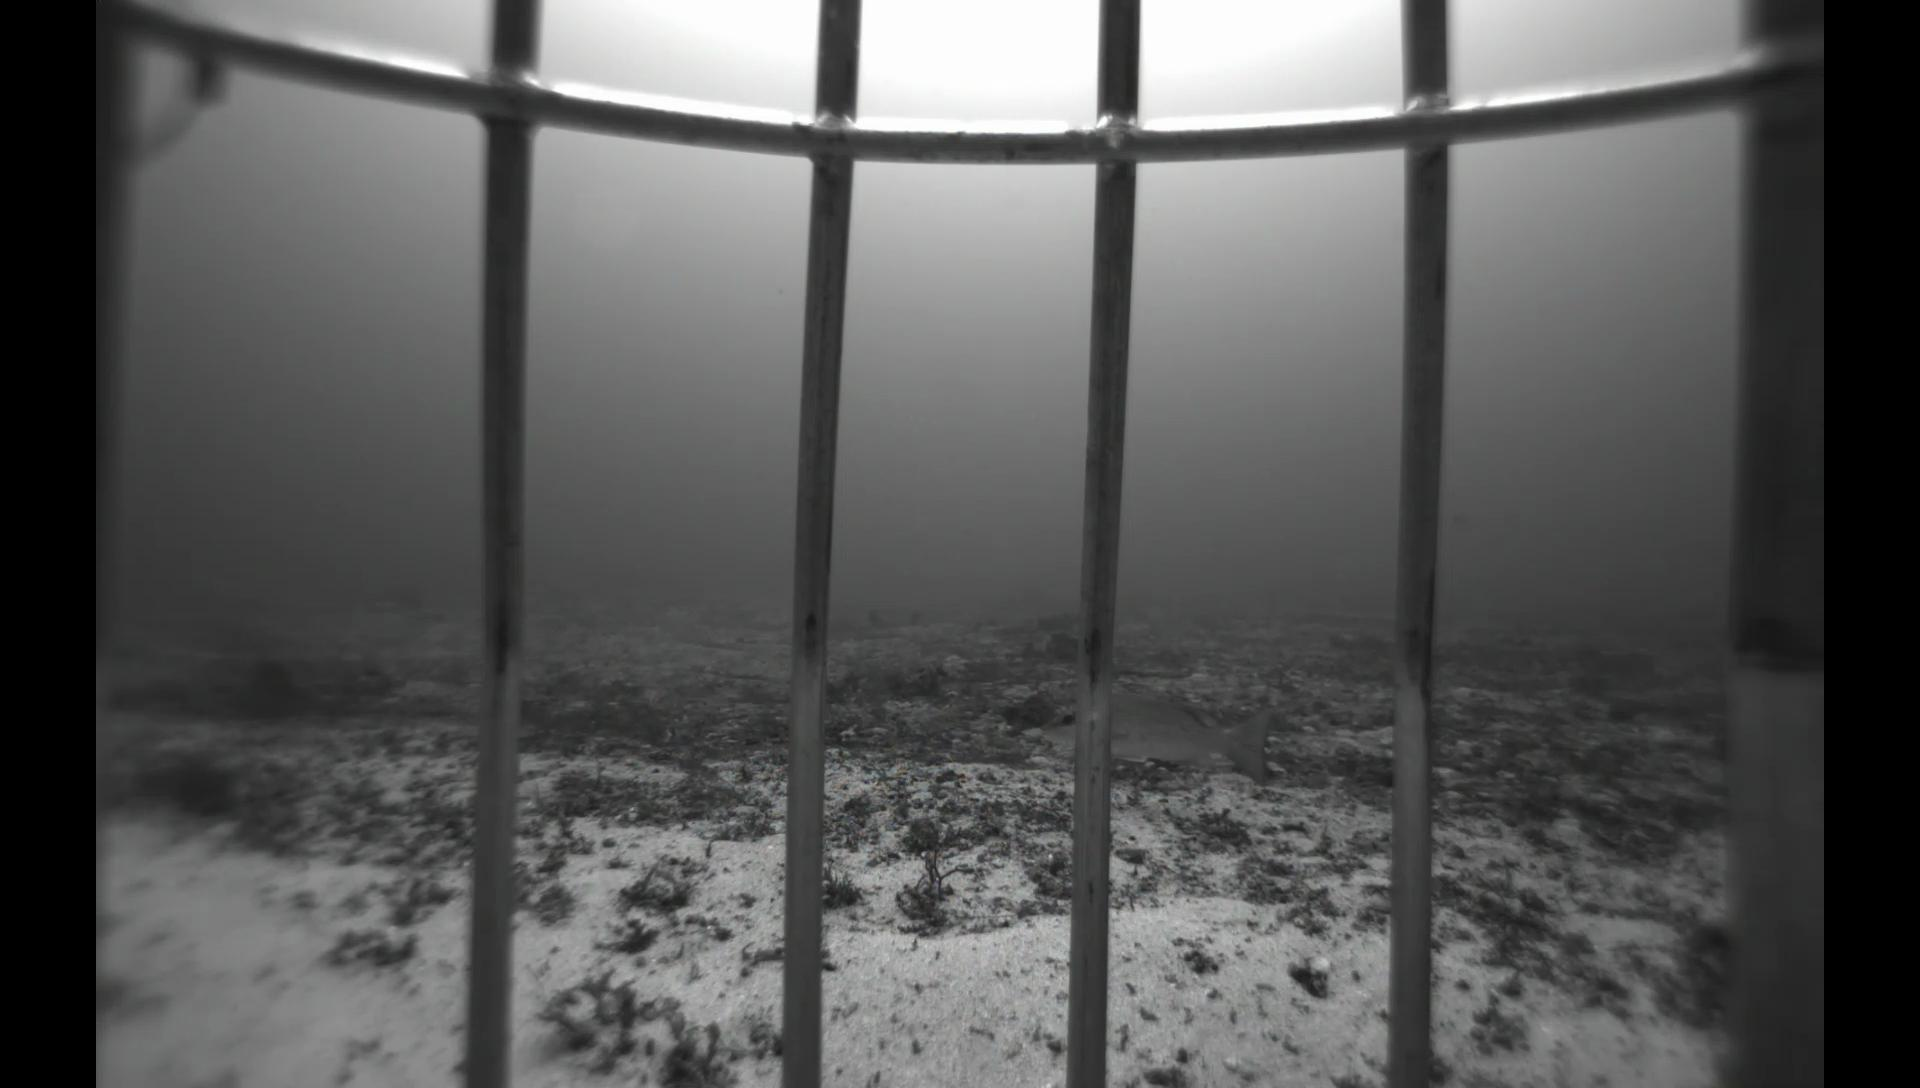LUTJANUSGRISEUS-170151109: (1030, 688, 1280, 795)
PAGRUSPAGRUS-170212302: (171, 607, 311, 671)
